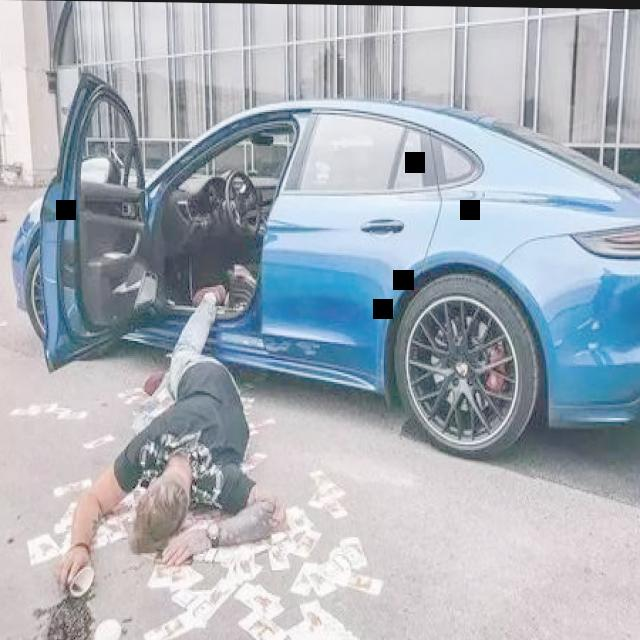Fall-Detected: (54, 257, 287, 603)
